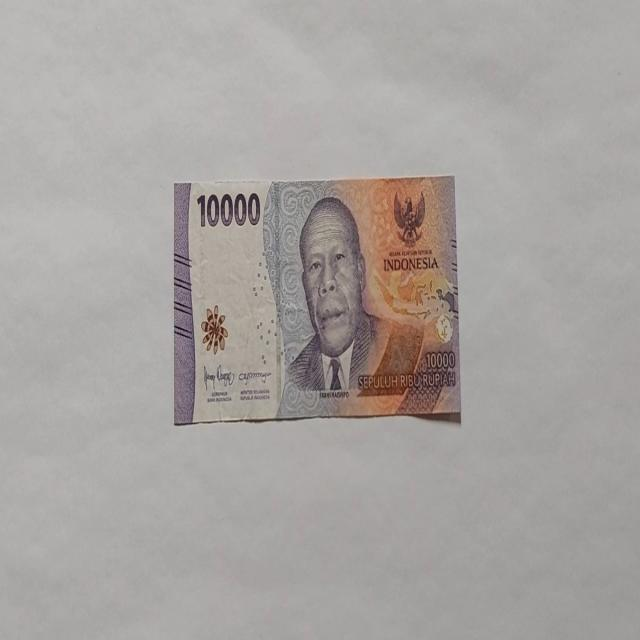sepuluh ribu rupiah: (172, 174, 462, 426), (273, 192, 423, 414)
